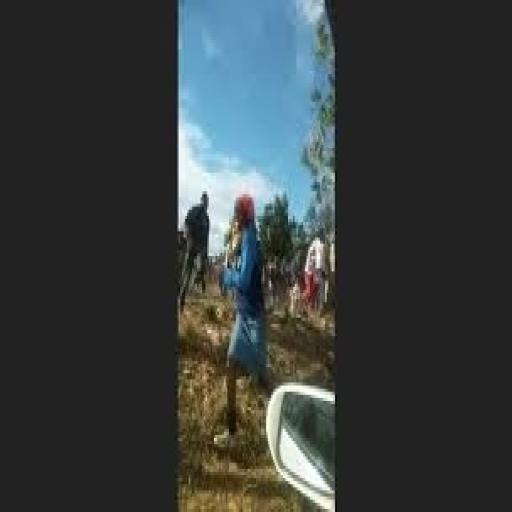running: (210, 192, 273, 454), (177, 185, 212, 312)
